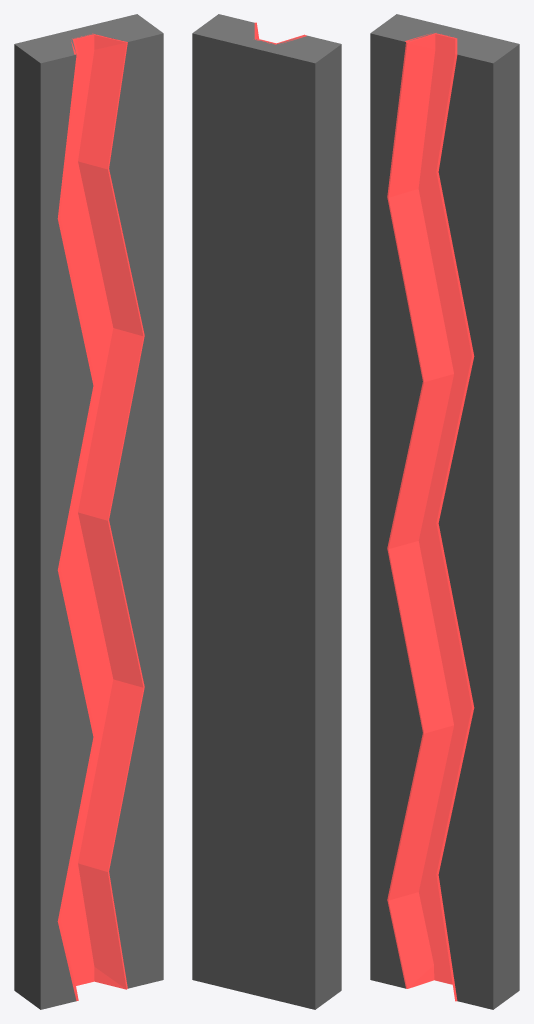
Rendered from WALL2.fbx.
3 views of the same model, side by side, from view 1: azimuth 30°, elevation 25°; view 2: azimuth 150°, elevation 25°; view 3: azimuth 330°, elevation 25° (orthographic).
Visible parts, largest first — view 1: Box009; view 2: Box009; view 3: Box009.
Boxes of the visible parts, left/top/right/bottom form: Box009: left=14, top=14, right=163, bottom=1009; Box009: left=192, top=14, right=341, bottom=1009; Box009: left=370, top=14, right=519, bottom=1009.
Size of the model in its own units: 856 by 6295 by 325.
